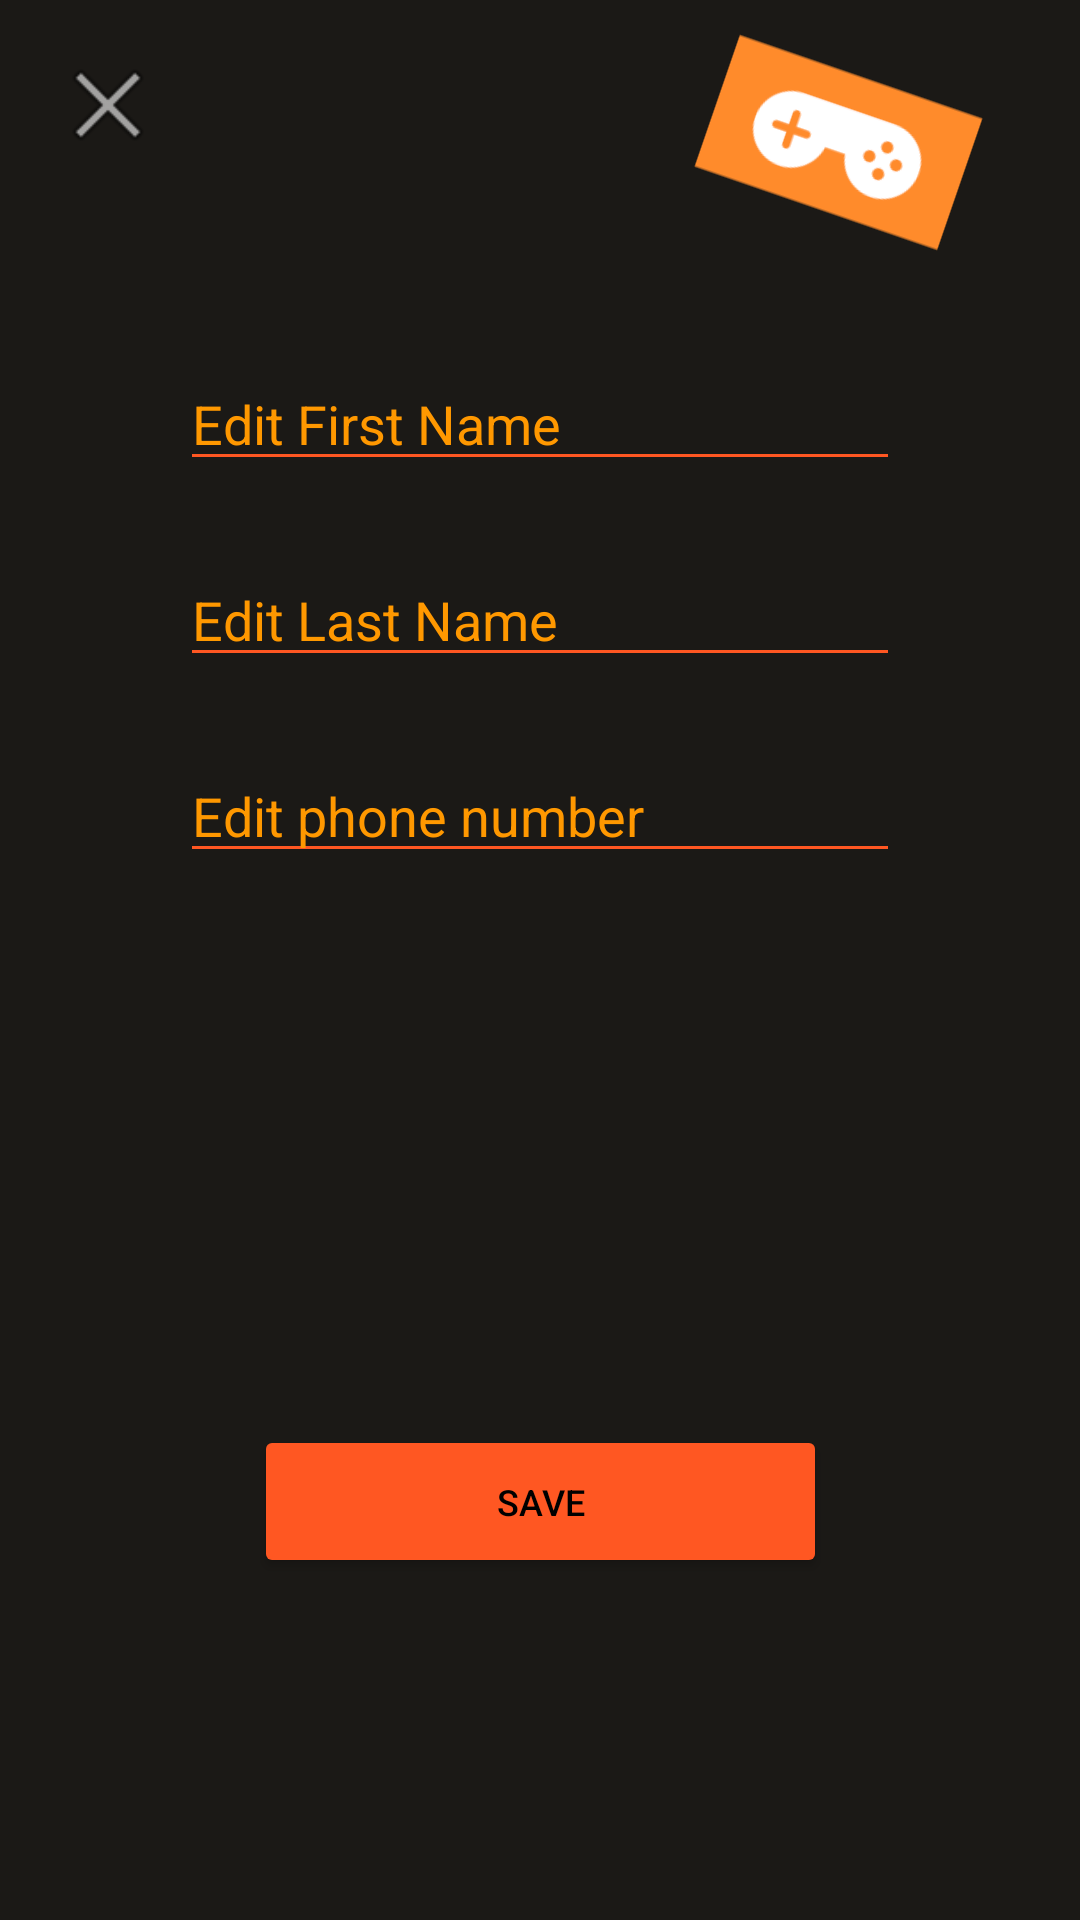

Icon bounding boxes for this 1080w x 1920h phone screenshot, format (x1, y1, x2, y2):
close clear cancel: (76, 73, 140, 137)
